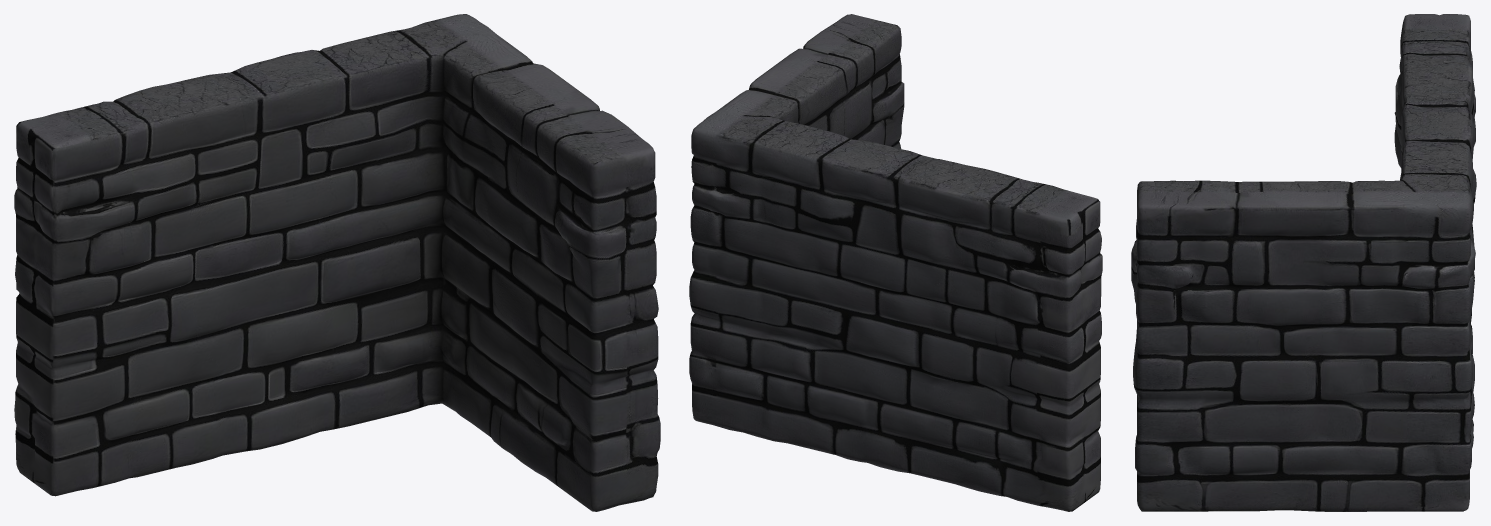
The model's file is kit-corner.glb.
The picture shows the model from 3 angles, left to right: view 1: azimuth 30°, elevation 25°; view 2: azimuth 150°, elevation 25°; view 3: azimuth 270°, elevation 25°; orthographic projection. The views are drawn at different scales.
Bounding box in the file's own units: 1.91 × 1.4 × 1.42.
Materials: 1 (1 with a texture image).
